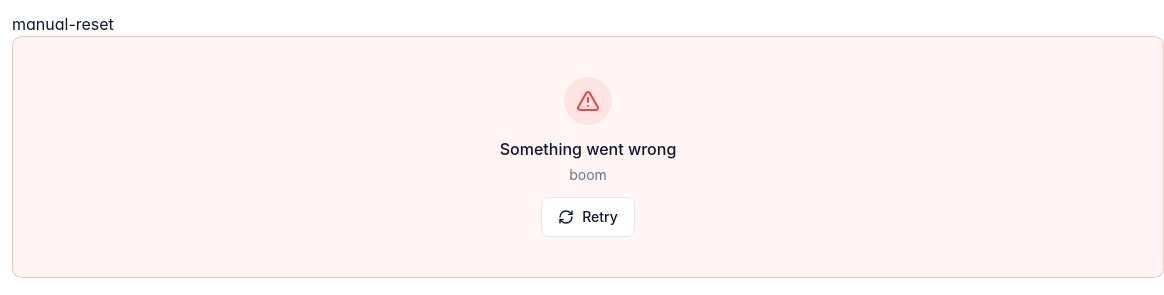
RouteBoundary › renders ErrorState on thrown error and retries via reset
Click the button "Retry": (588, 217) top-left (541, 197), bottom-right (635, 237)
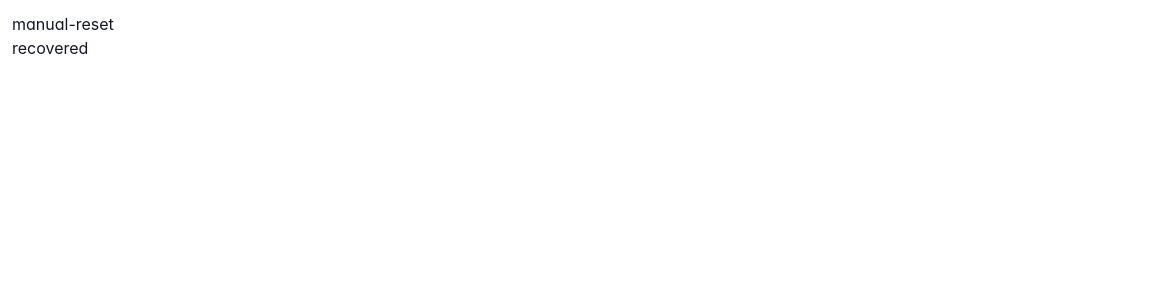
Expected: the message "Something went wrong boom Retry" is gone
Expected: the text "recovered" is shown, top-left (12, 38), bottom-right (88, 58)
